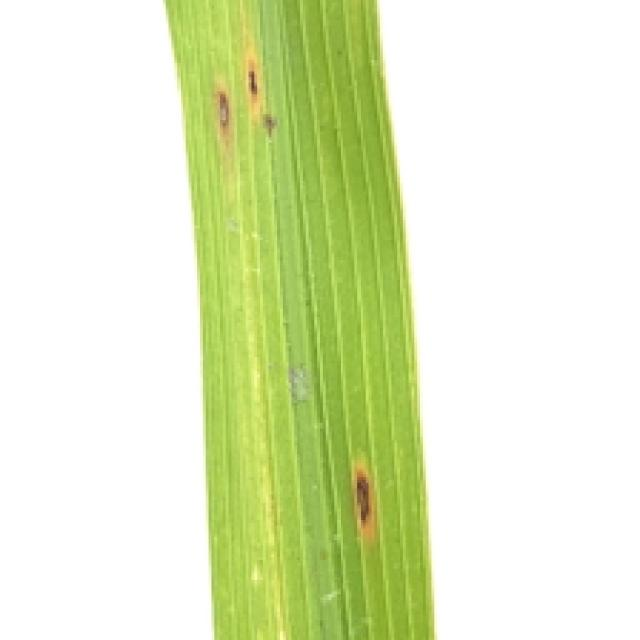Rice___Rice_Blast: (165, 0, 438, 637)
